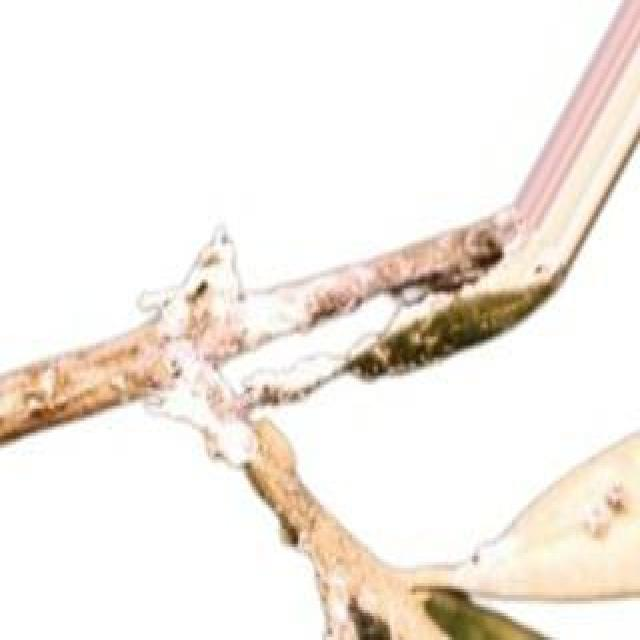Psyllid: (138, 225, 358, 472)
